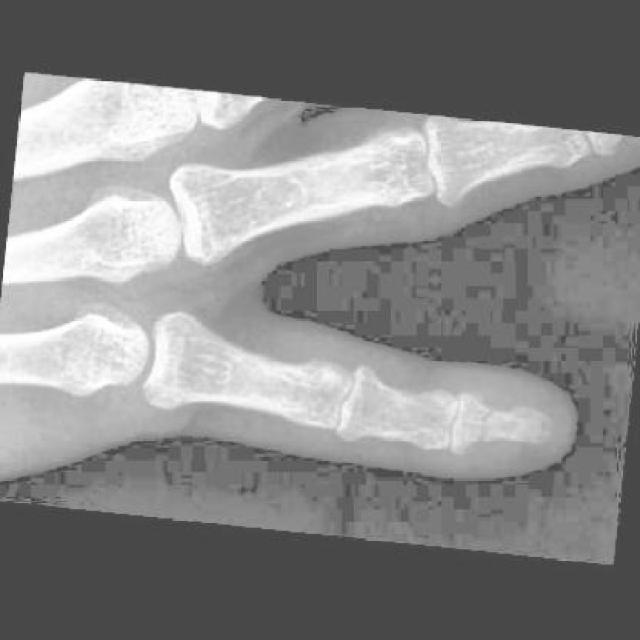bone: (474, 405, 503, 453)
